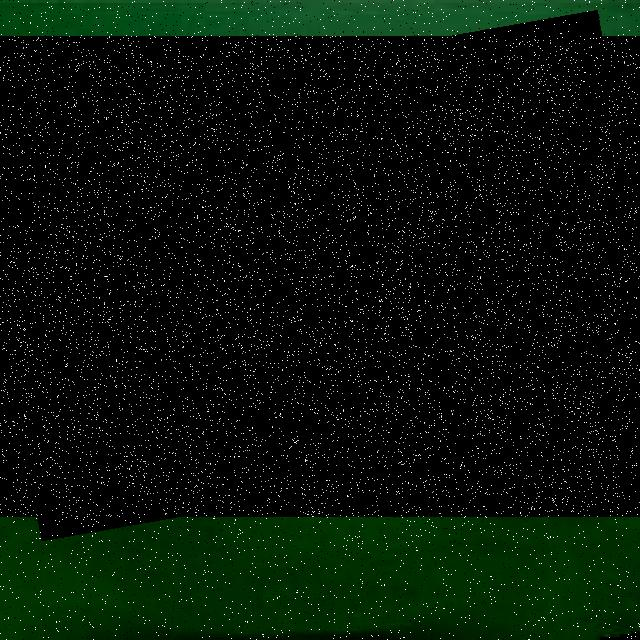dua ribu rupiah: (0, 36, 640, 517)
